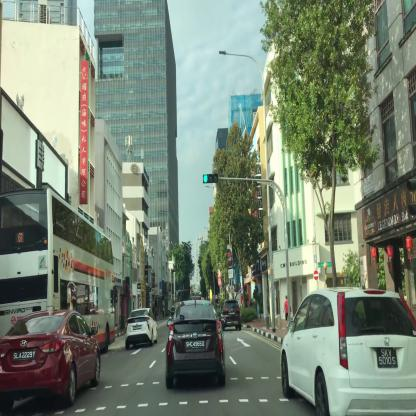green_traffic_light: (203, 174, 218, 182)
